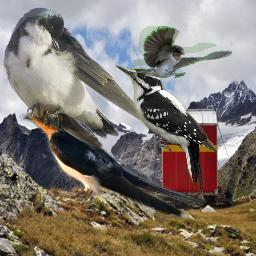Swallow: (0, 5, 175, 151), (19, 98, 208, 219), (134, 26, 232, 78)
Woodpecker: (114, 61, 217, 196)
